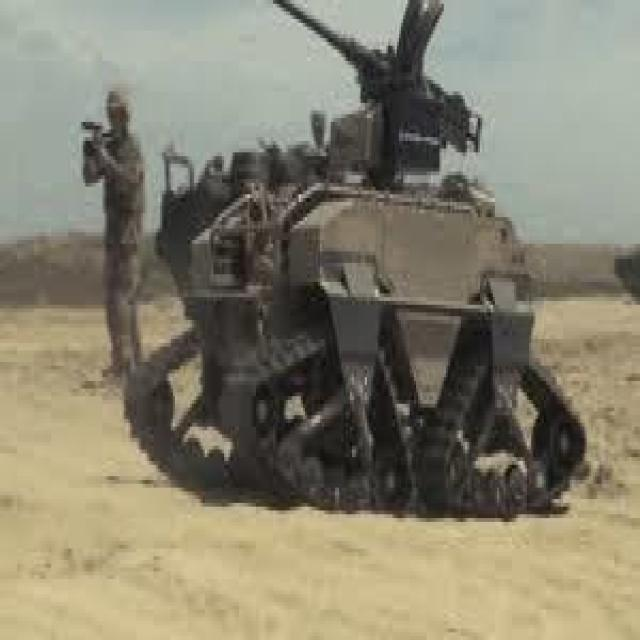MIL_MBT: (158, 72, 589, 537)
